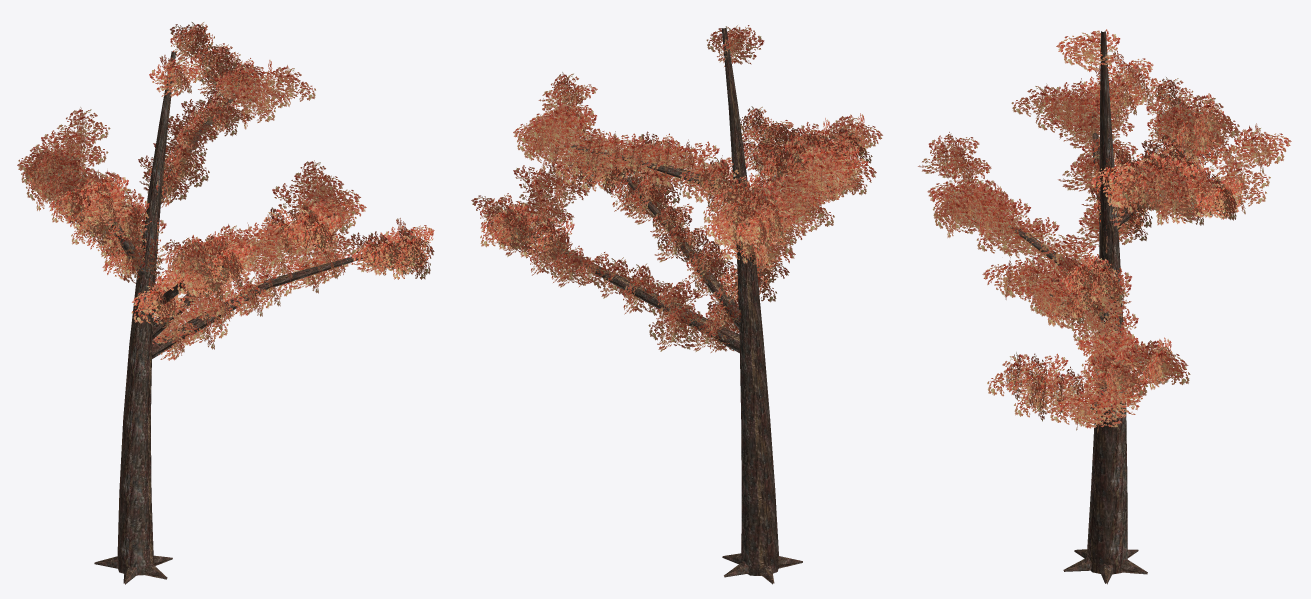
File: tree_3d_04_copper_lod1.glb
3 renders of one model, left to right at view 1: azimuth 30°, elevation 25°; view 2: azimuth 150°, elevation 25°; view 3: azimuth 270°, elevation 25°, orthographic. The views are drawn at different scales.
Visible parts, largest first — view 1: foliage_cards, wood_geometry; view 2: foliage_cards, wood_geometry; view 3: foliage_cards, wood_geometry.
Boxes of the visible parts, x1,y1,x2,y2 form: foliage_cards: (17, 22, 434, 360); wood_geometry: (77, 51, 371, 584); foliage_cards: (471, 25, 882, 352); wood_geometry: (504, 27, 832, 584); foliage_cards: (918, 29, 1291, 432); wood_geometry: (955, 31, 1216, 584).
Bounding box in the file's own units: 9.37 × 11.58 × 7.14.
2 materials, 2 textured.
